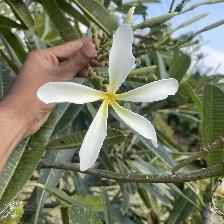champaka: (40, 21, 184, 174)
